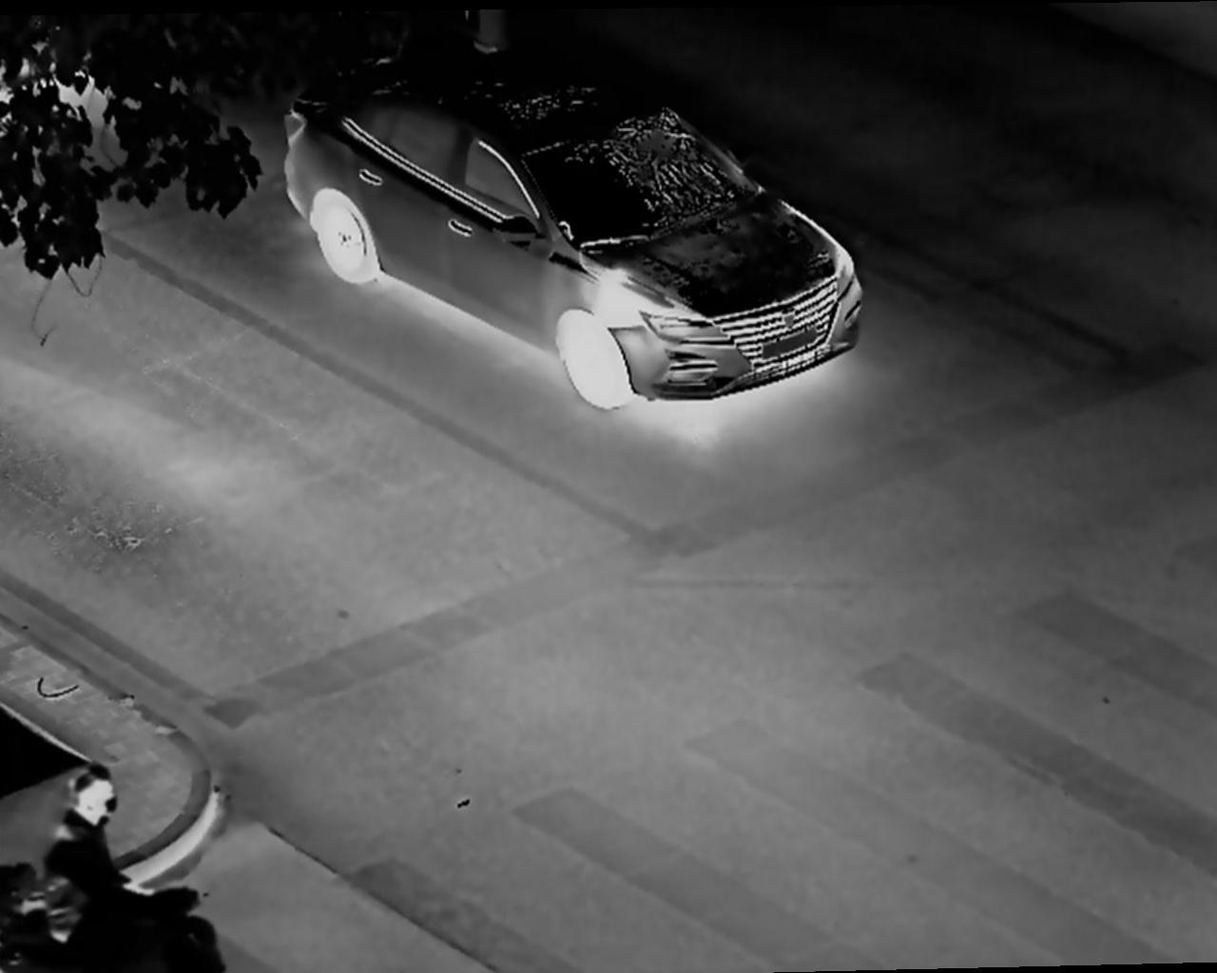person: (39, 756, 205, 969)
